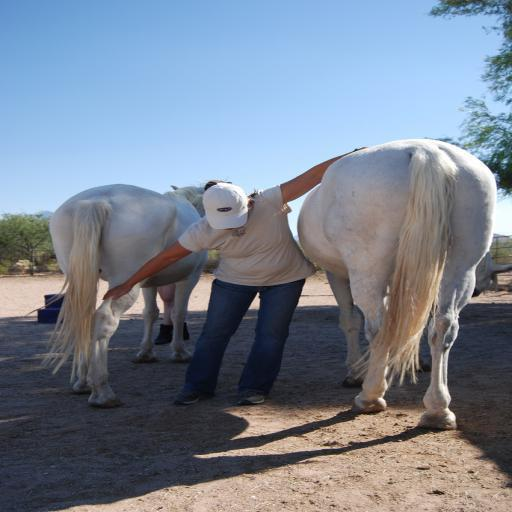horse: (294, 135, 512, 432), (20, 182, 206, 412)
